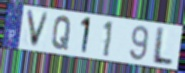1: (78, 16, 93, 57), (102, 20, 115, 58)
9: (128, 25, 151, 63)
L: (150, 26, 175, 68)
Q: (50, 15, 73, 52)
V: (25, 8, 51, 50)
